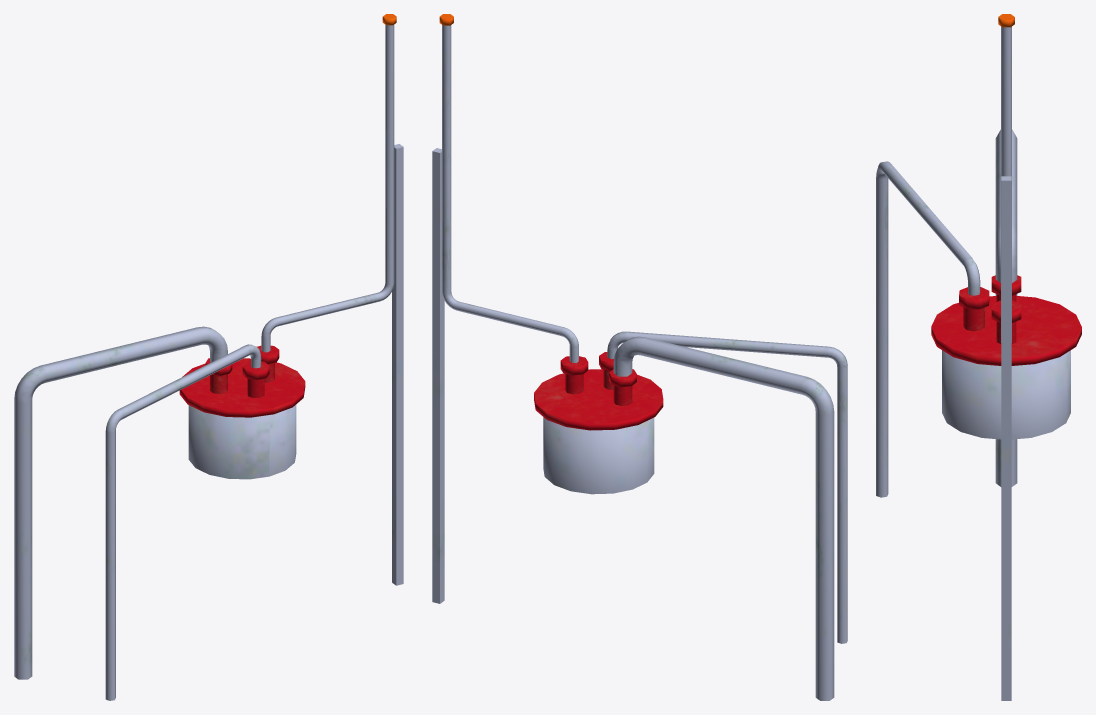
The model's file is refuel-area-piping-cbj_LOD01.gltf.
3 views of the same model, side by side, from view 1: azimuth 30°, elevation 25°; view 2: azimuth 150°, elevation 25°; view 3: azimuth 270°, elevation 25° (orthographic). The views are drawn at different scales.
Parts seen in each view (by area): view 1: Cube01; view 2: Cube01; view 3: Cube01.
Boxes of the visible parts, x1=… form: Cube01: x1=14, y1=14, x2=403, y2=700; Cube01: x1=432, y1=14, x2=847, y2=700; Cube01: x1=876, y1=14, x2=1081, y2=700.
Bounding box in the file's own units: 4.92 × 6.96 × 1.91.
